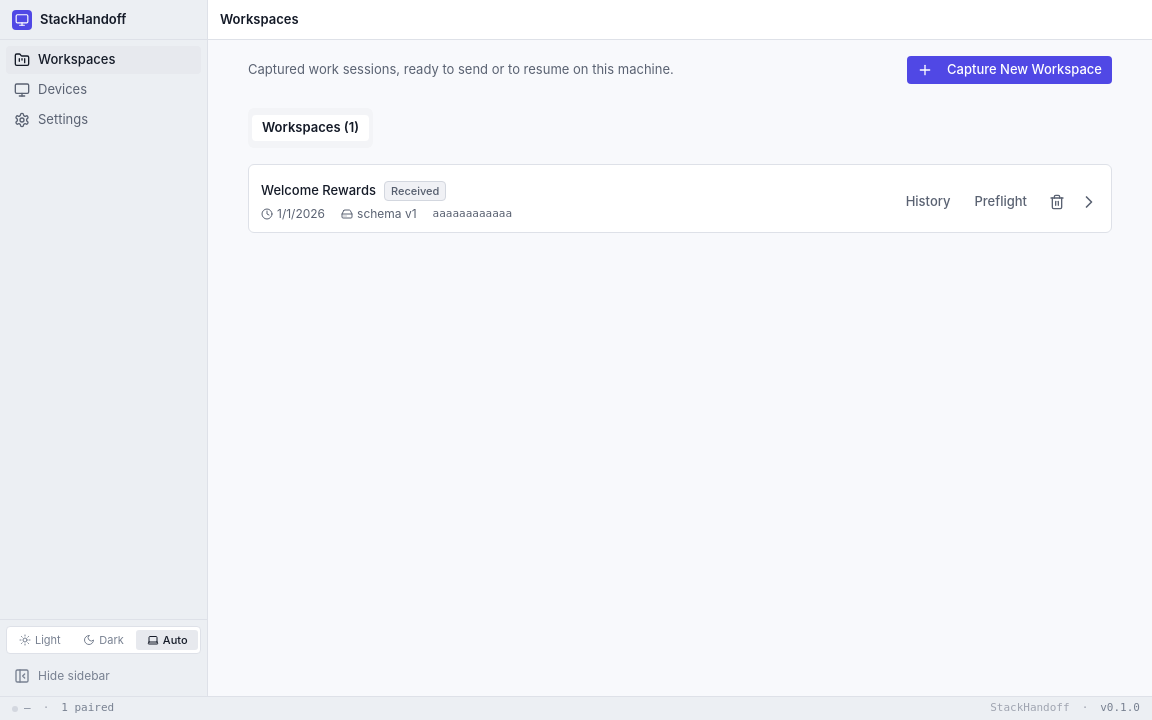
Scenario: transfer history answers "did it get there?" › shows both directions of a workspace
This screenshot has width=1152, height=720.
What coordinates should you click on to do the following:
click the button "History"
I would click on:
 (928, 202)
Its box is [898,190,958,214].
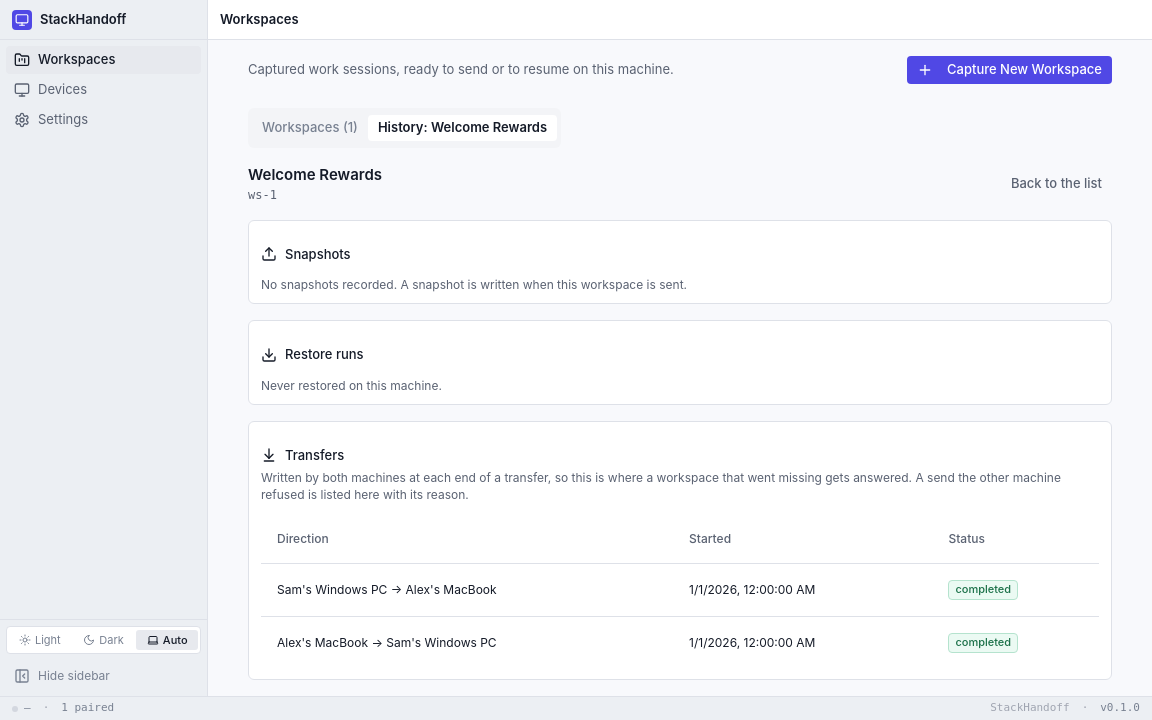
Expected: the text "Sam's Windows PC → Alex's MacBook" is shown, [261,563,673,616]
Expected: the text "Alex's MacBook → Sam's Windows PC" is shown, [261,616,673,668]
